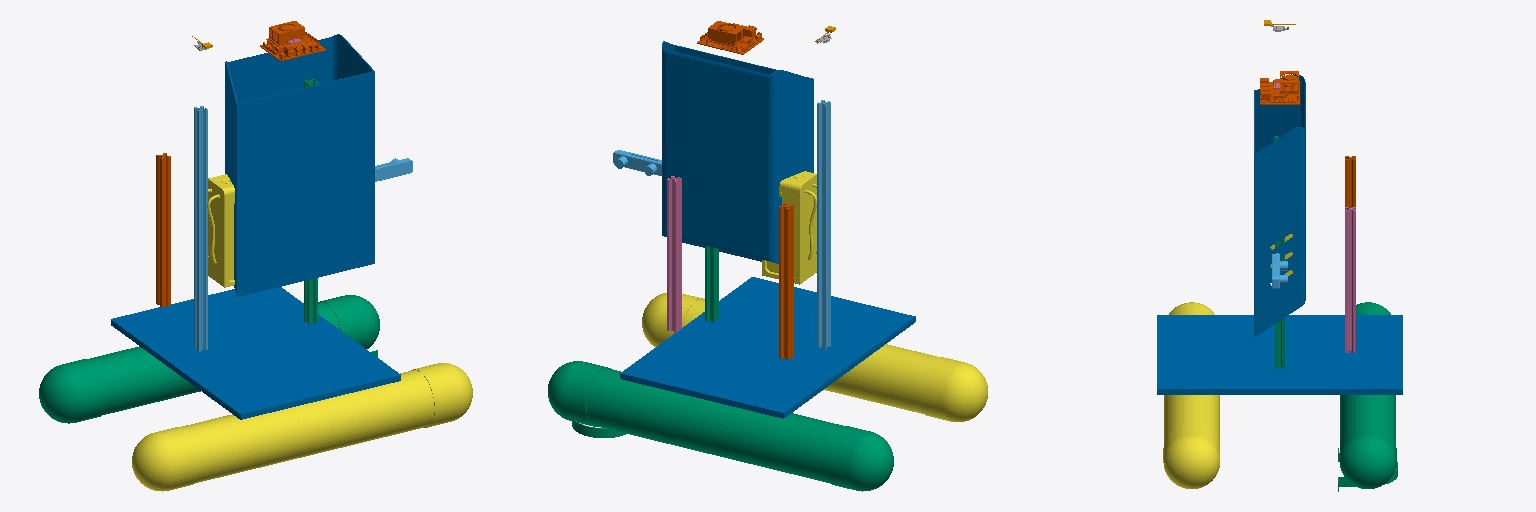
robot.urdf — asv_station_keeping_diag:
<?xml version='1.0' encoding='utf-8'?>
<robot name="asv_station_keeping_diag">
  <!-- Mesh-loading test only. Mounting poses are estimates, not Fusion occurrence transforms. 00_base has no visuals. -->
  <link name="base_footprint" />
  <link name="base_link">
    <inertial>
      <origin xyz="0 0 0" rpy="0 0 0" />
      <mass value="0.1" />
      <inertia ixx="0.0001" ixy="0" ixz="0" iyy="0.0001" iyz="0" izz="0.0001" />
    </inertial>
  </link>
  <link name="hull_left">
    <inertial>
      <origin xyz="0.0017543 -0.0000047 -0.0000010" rpy="0 0 0" />
      <mass value="8.7513272838" />
      <inertia ixx="0.0159438897" ixy="0" ixz="0" iyy="0.7485544942" iyz="0" izz="0.7485544942" />
    </inertial>
    <visual name="hull_left_visual">
      <origin xyz="-0.971730 0.357754 -1.641617" rpy="0 0 -1.57079632679" />
      <geometry>
        <mesh filename="package://asv_station_keeping/meshes/hull.stl" scale="0.001 0.001 0.001" />
      </geometry>
    </visual>
    <collision name="hull_left_collision">
      <geometry>
        <box size="0.724805 0.112973 0.112998" />
      </geometry>
    </collision>
  </link>
  <link name="hull_right">
    <inertial>
      <origin xyz="0.0017543 -0.0000047 -0.0000010" rpy="0 0 0" />
      <mass value="8.7513272838" />
      <inertia ixx="0.0159438897" ixy="0" ixz="0" iyy="0.7485544942" iyz="0" izz="0.7485544942" />
    </inertial>
    <visual name="hull_right_visual">
      <origin xyz="-0.971730 0.357754 -1.641617" rpy="0 0 -1.57079632679" />
      <geometry>
        <mesh filename="package://asv_station_keeping/meshes/hull.stl" scale="0.001 0.001 0.001" />
      </geometry>
    </visual>
    <collision name="hull_right_collision">
      <geometry>
        <box size="0.724805 0.112973 0.112998" />
      </geometry>
    </collision>
  </link>
  <link name="base_deck">
    <inertial>
      <origin xyz="0 0 0" rpy="0 0 0" />
      <mass value="16.1553" />
      <inertia ixx="0.3234344911" ixy="0" ixz="0" iyy="0.1651125511" iyz="0" izz="0.4881593150" />
    </inertial>
    <visual name="base_deck_visual">
      <origin xyz="-0.142254 -0.216347 -0.006000" rpy="1.57079632679 0 0" />
      <geometry>
        <mesh filename="package://asv_station_keeping/meshes/base_deck.stl" scale="0.001 0.001 0.001" />
      </geometry>
    </visual>
    <collision name="base_deck_collision">
      <geometry>
        <box size="0.350 0.490 0.012" />
      </geometry>
    </collision>
  </link>
  <link name="frame1_left">
    <inertial>
      <origin xyz="0 0 0" />
      <mass value="0.41469714" />
      <inertia ixx="0.00333785" ixy="0" ixz="0" iyy="0.00333785" iyz="0" izz="0.0000336422" />
    </inertial>
    <visual>
      <geometry>
        <mesh filename="package://asv_station_keeping/meshes/frame1.stl" scale="0.001 0.001 0.001" />
      </geometry>
    </visual>
    <collision>
      <geometry>
        <cylinder radius="0.010" length="0.310" />
      </geometry>
    </collision>
  </link>
  <link name="frame1_right">
    <inertial>
      <origin xyz="0 0 0" />
      <mass value="0.41469714" />
      <inertia ixx="0.00333785" ixy="0" ixz="0" iyy="0.00333785" iyz="0" izz="0.0000336422" />
    </inertial>
    <visual>
      <geometry>
        <mesh filename="package://asv_station_keeping/meshes/frame1.stl" scale="0.001 0.001 0.001" />
      </geometry>
    </visual>
    <collision>
      <geometry>
        <cylinder radius="0.010" length="0.310" />
      </geometry>
    </collision>
  </link>
  <link name="frame2_left">
    <inertial>
      <origin xyz="0 0 0" />
      <mass value="0.66886635" />
      <inertia ixx="0.01396185" ixy="0" ixz="0" iyy="0.01396185" iyz="0" izz="0.000054262" />
    </inertial>
    <visual>
      <geometry>
        <mesh filename="package://asv_station_keeping/meshes/frame2.stl" scale="0.001 0.001 0.001" />
      </geometry>
    </visual>
    <collision>
      <geometry>
        <cylinder radius="0.010" length="0.500" />
      </geometry>
    </collision>
  </link>
  <link name="frame2_right">
    <inertial>
      <origin xyz="0 0 0" />
      <mass value="0.66886635" />
      <inertia ixx="0.01396185" ixy="0" ixz="0" iyy="0.01396185" iyz="0" izz="0.000054262" />
    </inertial>
    <visual>
      <geometry>
        <mesh filename="package://asv_station_keeping/meshes/frame2.stl" scale="0.001 0.001 0.001" />
      </geometry>
    </visual>
    <collision>
      <geometry>
        <cylinder radius="0.010" length="0.500" />
      </geometry>
    </collision>
  </link>
  <link name="frame3_left">
    <inertial>
      <origin xyz="0 0 0" />
      <mass value="0.66886635" />
      <inertia ixx="0.01396185" ixy="0" ixz="0" iyy="0.01396185" iyz="0" izz="0.000054262" />
    </inertial>
    <visual>
      <geometry>
        <mesh filename="package://asv_station_keeping/meshes/frame3.stl" scale="0.001 0.001 0.001" />
      </geometry>
    </visual>
    <collision>
      <geometry>
        <cylinder radius="0.010" length="0.500" />
      </geometry>
    </collision>
  </link>
  <link name="frame3_right">
    <inertial>
      <origin xyz="0 0 0" />
      <mass value="0.66886635" />
      <inertia ixx="0.01396185" ixy="0" ixz="0" iyy="0.01396185" iyz="0" izz="0.000054262" />
    </inertial>
    <visual>
      <geometry>
        <mesh filename="package://asv_station_keeping/meshes/frame3.stl" scale="0.001 0.001 0.001" />
      </geometry>
    </visual>
    <collision>
      <geometry>
        <cylinder radius="0.010" length="0.500" />
      </geometry>
    </collision>
  </link>
  <link name="battery">
    <inertial>
      <origin xyz="0.011821 0 0.000846" />
      <mass value="8.29420474" />
      <inertia ixx="0.0317350" ixy="0" ixz="0.0000687" iyy="0.0339037" iyz="0" izz="0.00778636" />
    </inertial>
    <visual>
      <origin xyz="0.012244 -0.035000 -0.000150" />
      <geometry>
        <mesh filename="package://asv_station_keeping/meshes/battery.stl" scale="0.001 0.001 0.001" />
      </geometry>
    </visual>
    <collision>
      <geometry>
        <box size="0.109 0.070 0.202" />
      </geometry>
    </collision>
  </link>
  <link name="electronics">
    <inertial>
      <origin xyz="0 -0.005565 -0.000224" />
      <mass value="4.50915118" />
      <inertia ixx="0.0697094" ixy="0" ixz="0" iyy="0.1035140" iyz="-0.00452282" izz="0.0519051" />
    </inertial>
    <visual>
      <origin xyz="0 -0.051000 -0.023578" />
      <geometry>
        <mesh filename="package://asv_station_keeping/meshes/electronics.stl" scale="0.001 0.001 0.001" />
      </geometry>
    </visual>
    <collision>
      <geometry>
        <box size="0.300 0.102 0.447" />
      </geometry>
    </collision>
  </link>
  <link name="jetson_nano">
    <inertial>
      <origin xyz="-0.001623 0.002547 -0.004382" />
      <mass value="0.55767391" />
      <inertia ixx="0.00033845" ixy="0.000000893" ixz="0.00000257" iyy="0.00033690" iyz="-0.00004065" izz="0.00056875" />
    </inertial>
    <visual>
      <origin xyz="-0.004000 -0.007385 -0.025097" />
      <geometry>
        <mesh filename="package://asv_station_keeping/meshes/Jetson-Nano.stl" scale="0.001 0.001 0.001" />
      </geometry>
    </visual>
    <collision>
      <geometry>
        <box size="0.100 0.080 0.040" />
      </geometry>
    </collision>
  </link>
  <link name="imu_link">
    <inertial>
      <origin xyz="-0.00000256 0.00000402 0" />
      <mass value="0.00700317" />
      <inertia ixx="0.0000002895" ixy="0.000000000021" ixz="0" iyy="0.0000003634" iyz="0" izz="0.0000006497" />
    </inertial>
    <visual>
      <geometry>
        <mesh filename="package://asv_station_keeping/meshes/imu_Adafruit-BNO085-STEMMA-QT.step_Printed-Circuit-Board.step.stl" scale="0.001 0.001 0.001" />
      </geometry>
    </visual>
    <collision>
      <geometry>
        <box size="0.0254 0.0229 0.00165" />
      </geometry>
    </collision>
  </link>
  <link name="gps">
    <inertial>
      <origin xyz="0.000722 -0.000920 -0.001504" />
      <mass value="0.0120864" />
      <inertia ixx="0.0000007935" ixy="-0.0000001189" ixz="-0.0000000123" iyy="0.0000003115" iyz="-0.0000000289" izz="0.0000010352" />
    </inertial>
    <visual>
      <origin xyz="0.477241 -0.271714 -0.058863" />
      <geometry>
        <mesh filename="package://asv_station_keeping/meshes/gps.stl" scale="0.001 0.001 0.001" />
      </geometry>
    </visual>
    <collision>
      <geometry>
        <box size="0.018 0.038 0.010" />
      </geometry>
    </collision>
  </link>
  <link name="gps_antenna">
    <inertial>
      <origin xyz="0 -0.023073 0.000028" />
      <mass value="0.00977979" />
      <inertia ixx="0.0000006570" ixy="0" ixz="0" iyy="0.0000001906" iyz="0.0000000297" izz="0.0000007948" />
    </inertial>
    <visual>
      <origin xyz="0 -0.024375 -0.002900" />
      <geometry>
        <mesh filename="package://asv_station_keeping/meshes/gps_antenna.stl" scale="0.001 0.001 0.001" />
      </geometry>
    </visual>
    <collision>
      <geometry>
        <box size="0.015 0.064 0.006" />
      </geometry>
    </collision>
  </link>
  <link name="zed_camera">
    <inertial>
      <origin xyz="0.001495 -0.005480 -0.000004" />
      <mass value="0.43618915" />
      <inertia ixx="0.00004355" ixy="-0.00000770" ixz="0.000000005" iyy="0.00057262" iyz="0.000000007" izz="0.00057177" />
    </inertial>
    <visual>
      <origin xyz="0.002250 -0.015125 -0.000012" />
      <geometry>
        <mesh filename="package://asv_station_keeping/meshes/zed_camera.stl" scale="0.001 0.001 0.001" />
      </geometry>
    </visual>
    <collision>
      <geometry>
        <box size="0.125 0.030 0.027" />
      </geometry>
    </collision>
  </link>
  <link name="clamp_left_front">
    <inertial>
      <origin xyz="0 0.001988 0" />
      <mass value="0.10948492" />
      <inertia ixx="0.00019881" ixy="0" ixz="0" iyy="0.00029460" iyz="0" izz="0.00048607" />
    </inertial>
    <visual>
      <origin xyz="-0.039825 -0.046506 -0.010000" />
      <geometry>
        <mesh filename="package://asv_station_keeping/meshes/clamp.stl" scale="0.001 0.001 0.001" />
      </geometry>
    </visual>
    <collision>
      <geometry>
        <box size="0.163 0.120 0.020" />
      </geometry>
    </collision>
  </link>
  <joint name="base_footprint_to_base_link" type="fixed">
    <parent link="base_footprint" />
    <child link="base_link" />
    <origin xyz="0 0 0" rpy="0 0 0" />
  </joint>
  <joint name="base_to_hull_left" type="fixed">
    <parent link="base_link" />
    <child link="hull_left" />
    <origin xyz="0 0.175 0.055" rpy="0 0 0" />
  </joint>
  <joint name="base_to_hull_right" type="fixed">
    <parent link="base_link" />
    <child link="hull_right" />
    <origin xyz="0 -0.175 0.055" rpy="0 0 0" />
  </joint>
  <joint name="base_to_base_deck" type="fixed">
    <parent link="base_link" />
    <child link="base_deck" />
    <origin xyz="0 0 0.145" rpy="0 0 0" />
  </joint>
  <joint name="deck_to_frame1_left" type="fixed">
    <parent link="base_deck" />
    <child link="frame1_left" />
    <origin xyz="-0.12 0.14 0.22" />
  </joint>
  <joint name="deck_to_frame1_right" type="fixed">
    <parent link="base_deck" />
    <child link="frame1_right" />
    <origin xyz="0.12 0.14 0.22" />
  </joint>
  <joint name="deck_to_frame2_left" type="fixed">
    <parent link="base_deck" />
    <child link="frame2_left" />
    <origin xyz="-0.12 -0.14 0.28" />
  </joint>
  <joint name="deck_to_frame2_right" type="fixed">
    <parent link="base_deck" />
    <child link="frame2_right" />
    <origin xyz="0.12 -0.14 0.28" />
  </joint>
  <joint name="deck_to_frame3_left" type="fixed">
    <parent link="base_deck" />
    <child link="frame3_left" />
    <origin xyz="-0.12 0 0.28" />
  </joint>
  <joint name="deck_to_frame3_right" type="fixed">
    <parent link="base_deck" />
    <child link="frame3_right" />
    <origin xyz="0.12 0 0.28" />
  </joint>
  <joint name="deck_to_battery" type="fixed">
    <parent link="base_deck" />
    <child link="battery" />
    <origin xyz="-0.06 0 0.265" />
  </joint>
  <joint name="deck_to_electronics" type="fixed">
    <parent link="base_deck" />
    <child link="electronics" />
    <origin xyz="0.08 0 0.370" />
  </joint>
  <joint name="electronics_to_jetson" type="fixed">
    <parent link="electronics" />
    <child link="jetson_nano" />
    <origin xyz="0 0 0.255" />
  </joint>
  <joint name="electronics_to_imu" type="fixed">
    <parent link="electronics" />
    <child link="imu_link" />
    <origin xyz="0 0 0.255" />
  </joint>
  <joint name="deck_to_gps" type="fixed">
    <parent link="base_deck" />
    <child link="gps" />
    <origin xyz="-0.12 0 0.66" />
  </joint>
  <joint name="gps_to_antenna" type="fixed">
    <parent link="gps" />
    <child link="gps_antenna" />
    <origin xyz="0 0 0.010" />
  </joint>
  <joint name="deck_to_zed_camera" type="fixed">
    <parent link="base_deck" />
    <child link="zed_camera" />
    <origin xyz="0.27 0 0.31" rpy="0 0 0" />
  </joint>
  <joint name="hull_left_to_clamp_front" type="fixed">
    <parent link="hull_left" />
    <child link="clamp_left_front" />
    <origin xyz="0.25 0 -0.045" />
  </joint>
</robot>

--- Render facts (derived) ---
Views: 3 orthographic renders of the robot side by side, from view 1: azimuth 30°, elevation 25°; view 2: azimuth 150°, elevation 25°; view 3: azimuth 270°, elevation 25°.
Model asv_station_keeping_diag with 19 links and 18 joints (18 fixed), rooted at base_footprint, posed every joint at zero.
Links seen in each view (by area): view 1: electronics, base_deck, hull_right, hull_left, frame3_left, battery, frame1_left, jetson_nano, frame3_right, zed_camera; view 2: electronics, base_deck, hull_left, hull_right, frame3_left, battery, frame1_left, frame1_right, jetson_nano, frame3_right, zed_camera; view 3: base_deck, electronics, hull_right, hull_left, frame1_right, jetson_nano, frame1_left, frame3_right.
Boxes of the visible links, x1,y1,x2,y2 form: electronics: (225, 34, 374, 296); base_deck: (111, 287, 400, 419); hull_right: (132, 363, 472, 491); hull_left: (39, 295, 379, 423); frame3_left: (194, 106, 207, 351); battery: (207, 174, 234, 287); frame1_left: (156, 153, 170, 307); jetson_nano: (260, 21, 325, 60); frame3_right: (304, 79, 317, 324); zed_camera: (375, 158, 412, 181); electronics: (662, 41, 813, 263); base_deck: (620, 277, 915, 418); hull_left: (548, 361, 893, 491); hull_right: (642, 293, 987, 421); frame3_left: (817, 100, 830, 349); battery: (762, 171, 816, 284); frame1_left: (779, 203, 793, 359); frame1_right: (667, 176, 681, 332); jetson_nano: (697, 21, 763, 54); frame3_right: (705, 246, 718, 322); zed_camera: (613, 150, 661, 175); base_deck: (1157, 315, 1402, 394); electronics: (1254, 75, 1305, 336); hull_right: (1163, 302, 1219, 488); hull_left: (1340, 302, 1396, 488); frame1_right: (1345, 207, 1355, 352); jetson_nano: (1260, 71, 1299, 104); frame1_left: (1345, 156, 1355, 207); frame3_right: (1275, 136, 1284, 368).
Size in the robot's own frame: 0.7248 by 0.49 by 0.8194 metres.
Meshes: 13 distinct files referenced, 15 mesh visuals loaded (12 binary STL); not drawn: 2 (reference not matched to a file when rendering).
